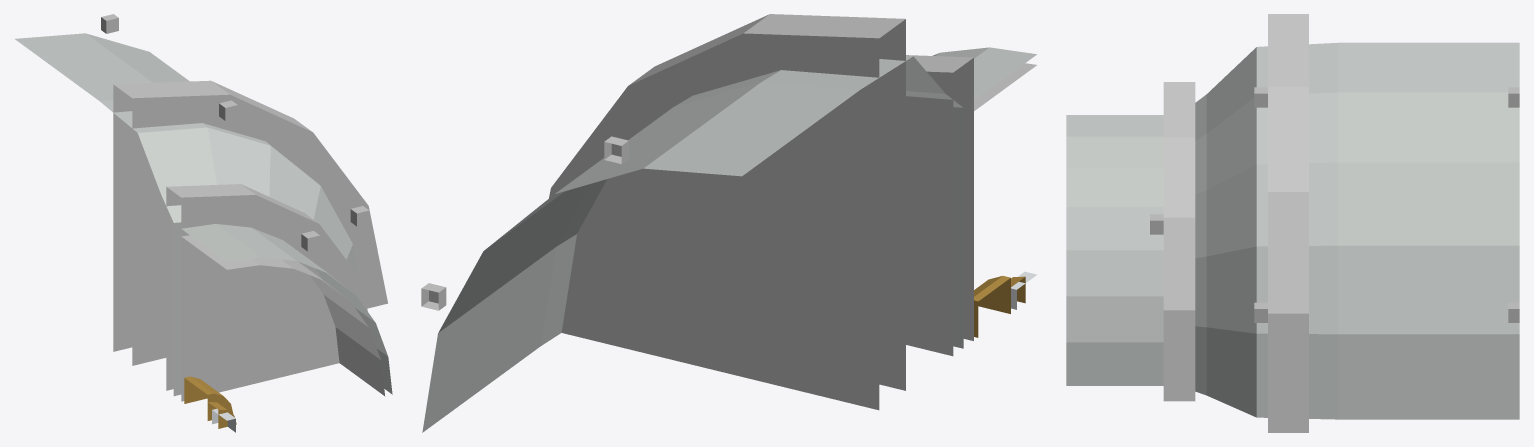
File: cell_89.obj
3 renders of one model, left to right at view 1: azimuth 30°, elevation 25°; view 2: azimuth 150°, elevation 25°; view 3: azimuth 270°, elevation 25°, orthographic. The views are drawn at different scales.
Bounding box in the file's own units: 0.695 × 0.695 × 1.
